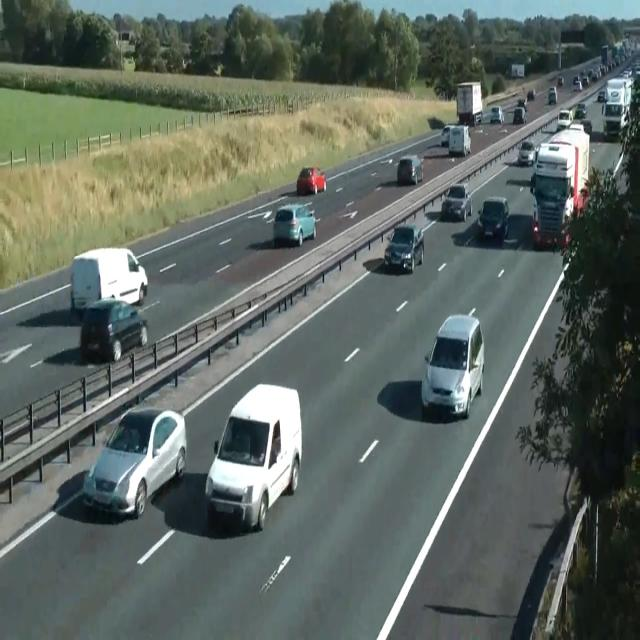bus: (384, 223, 424, 274), (272, 203, 316, 247), (441, 183, 472, 221), (296, 166, 326, 196), (396, 155, 424, 185), (518, 140, 536, 166), (569, 117, 592, 135), (440, 125, 456, 146), (490, 105, 504, 124), (513, 106, 526, 125), (548, 85, 558, 105), (576, 102, 587, 118), (517, 98, 527, 111), (474, 110, 482, 126), (597, 88, 605, 101), (527, 89, 536, 100), (558, 76, 564, 86)
jeep: (204, 381, 302, 531), (82, 404, 186, 519), (420, 312, 484, 419), (69, 246, 147, 316), (80, 296, 148, 363), (477, 194, 509, 242), (448, 124, 470, 156)
minibus: (530, 123, 590, 250), (601, 78, 631, 140), (456, 81, 482, 127), (511, 64, 525, 78), (602, 44, 608, 64)
